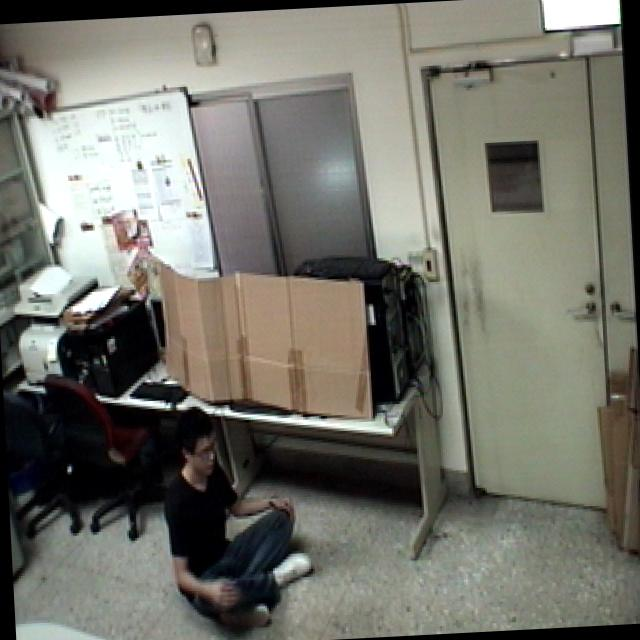sit: (151, 397, 320, 640)
